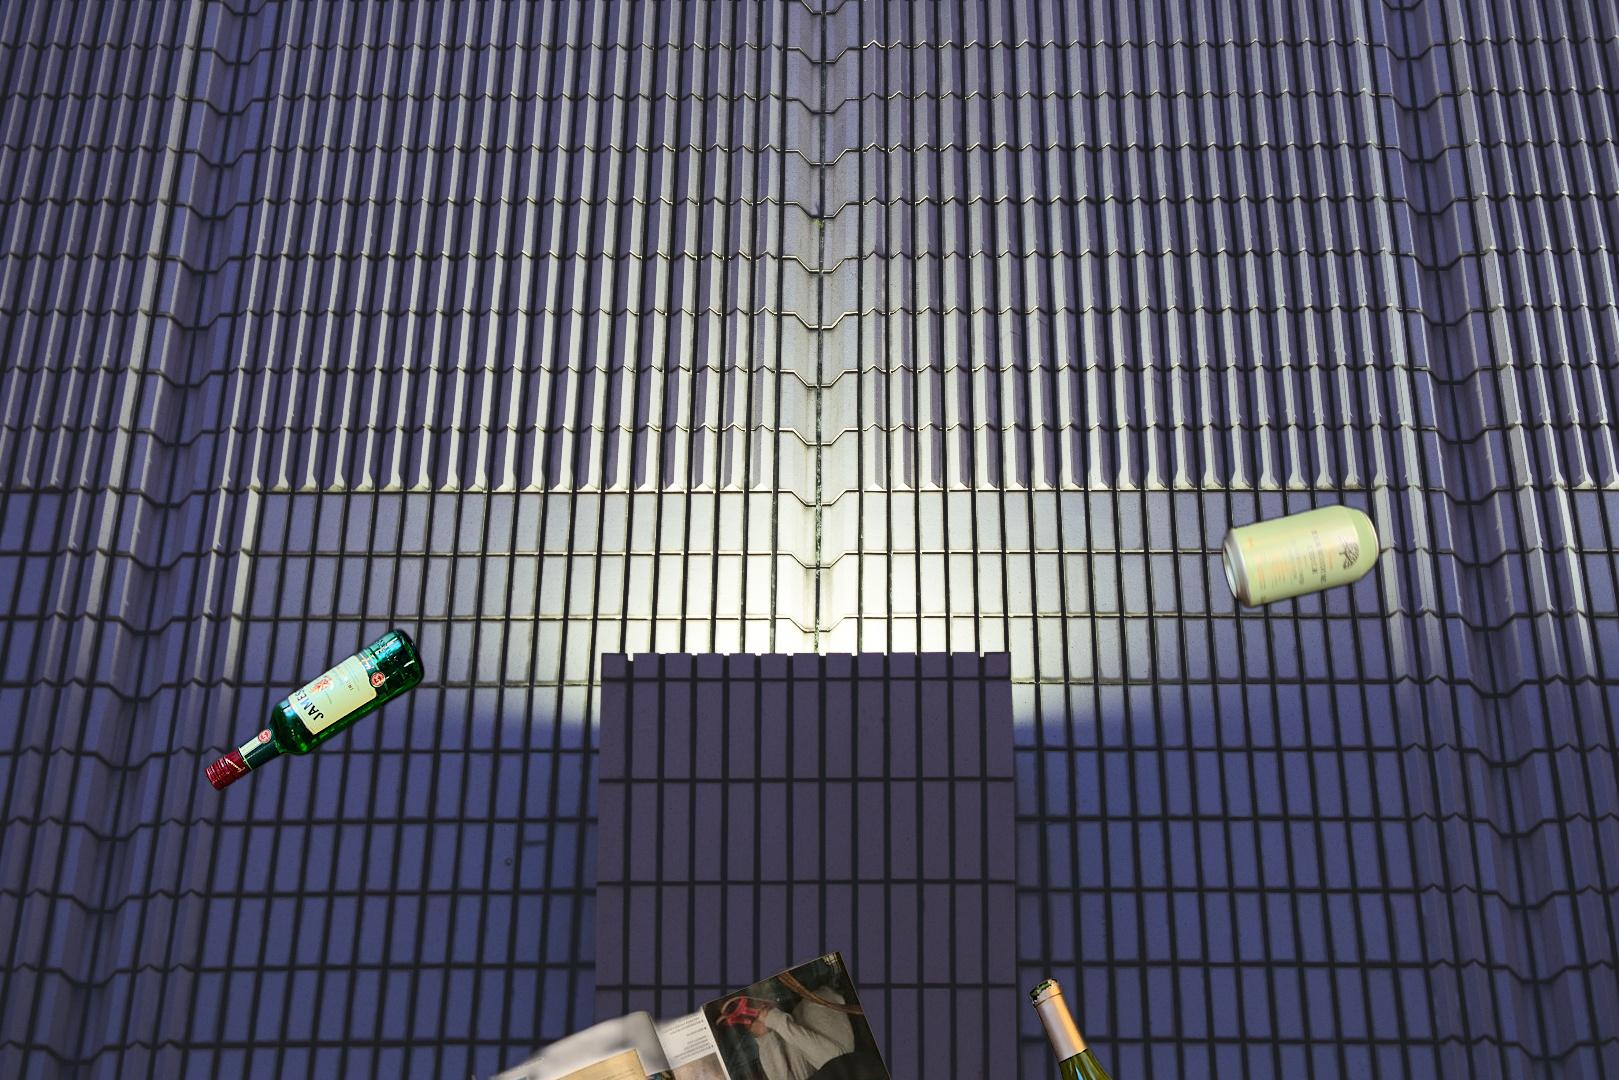glass: (747, 877, 1259, 1080), (200, 623, 429, 797)
metal-cans: (1218, 498, 1384, 614)
paper: (467, 947, 935, 1080)
